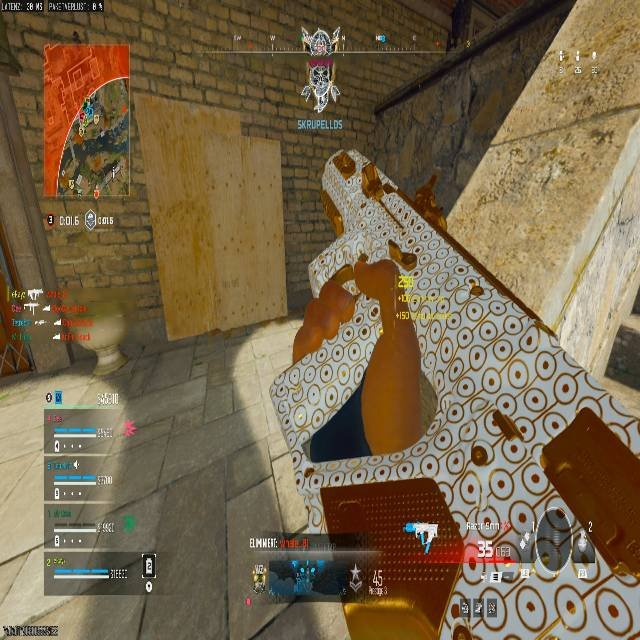player: (305, 65, 339, 113)
